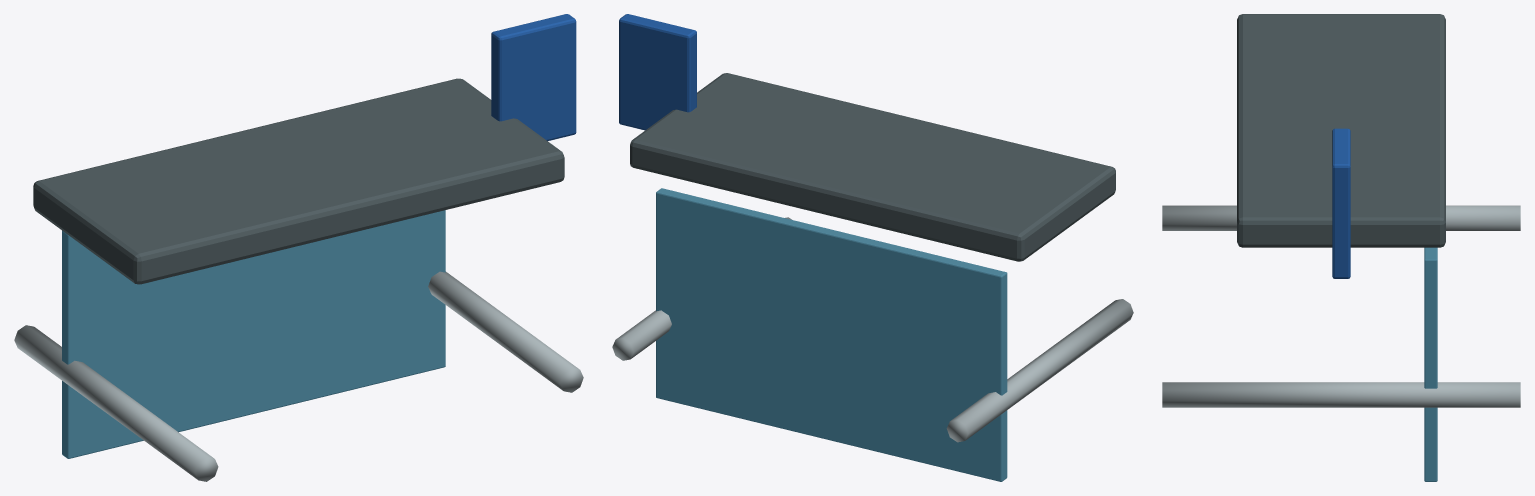
Rendered from bus_stop.glb.
The picture shows the model from 3 angles, left to right: view 1: azimuth 30°, elevation 25°; view 2: azimuth 150°, elevation 25°; view 3: azimuth 270°, elevation 25°; orthographic projection. The views are drawn at different scales.
Parts seen in each view (by area): view 1: shelter_glass, shelter_roof, route_sign, shelter_post, shelter_post.001; view 2: shelter_glass, shelter_roof, route_sign, shelter_post, shelter_post.001; view 3: shelter_roof, shelter_post.001, shelter_post, shelter_glass, route_sign.
Boxes of the visible parts, bbox=[...] form: shelter_glass: bbox=[62, 210, 445, 458]; shelter_roof: bbox=[33, 78, 564, 284]; route_sign: bbox=[491, 14, 576, 140]; shelter_post: bbox=[14, 325, 218, 481]; shelter_post.001: bbox=[428, 271, 583, 392]; shelter_glass: bbox=[656, 188, 1007, 481]; shelter_roof: bbox=[630, 73, 1115, 261]; route_sign: bbox=[619, 14, 696, 130]; shelter_post: bbox=[946, 299, 1133, 442]; shelter_post.001: bbox=[612, 217, 791, 360]; shelter_roof: bbox=[1237, 14, 1445, 247]; shelter_post.001: bbox=[1162, 382, 1520, 407]; shelter_post: bbox=[1162, 205, 1520, 230]; shelter_glass: bbox=[1424, 247, 1437, 481]; route_sign: bbox=[1332, 128, 1350, 278].
Size of the model in its own units: 0.75 by 0.53 by 0.48.
